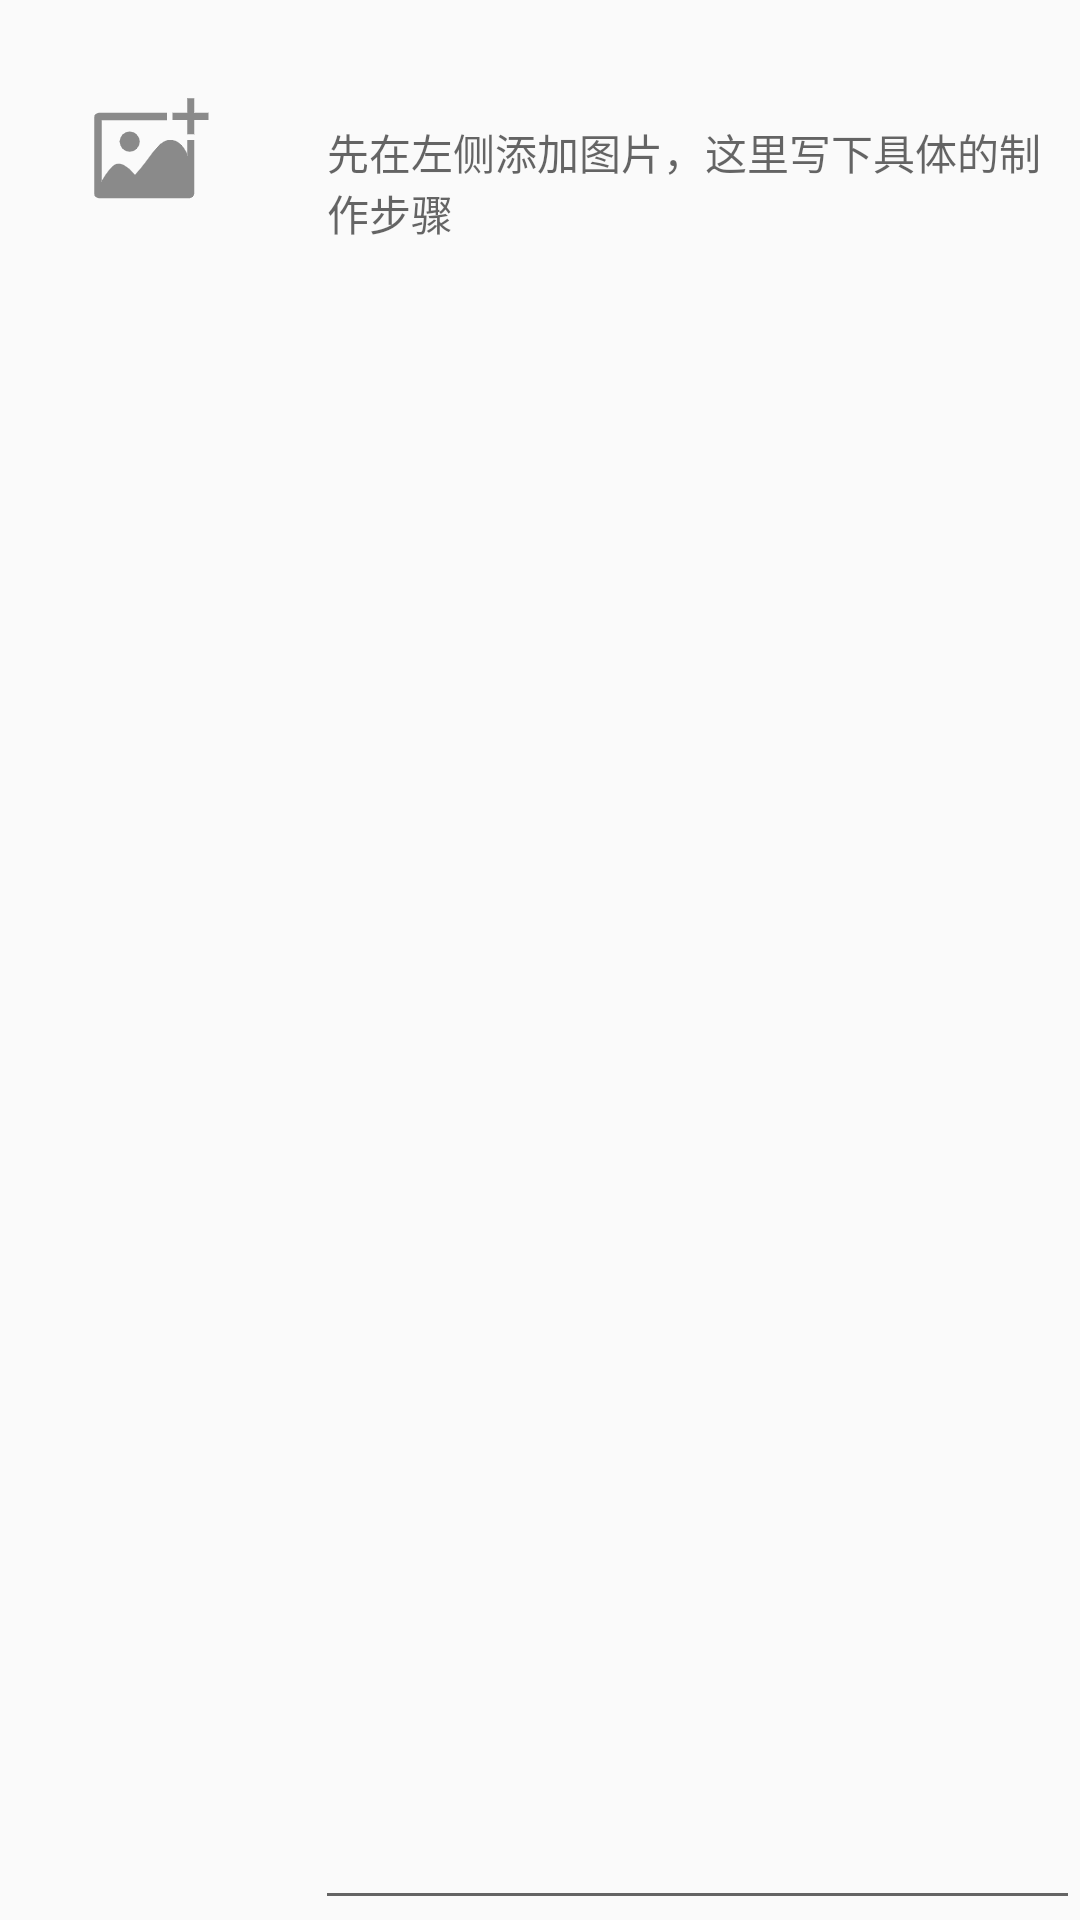

Named icons in this screenshot (1080x1920) and their centers, [x,y]:
add: [151,148]
